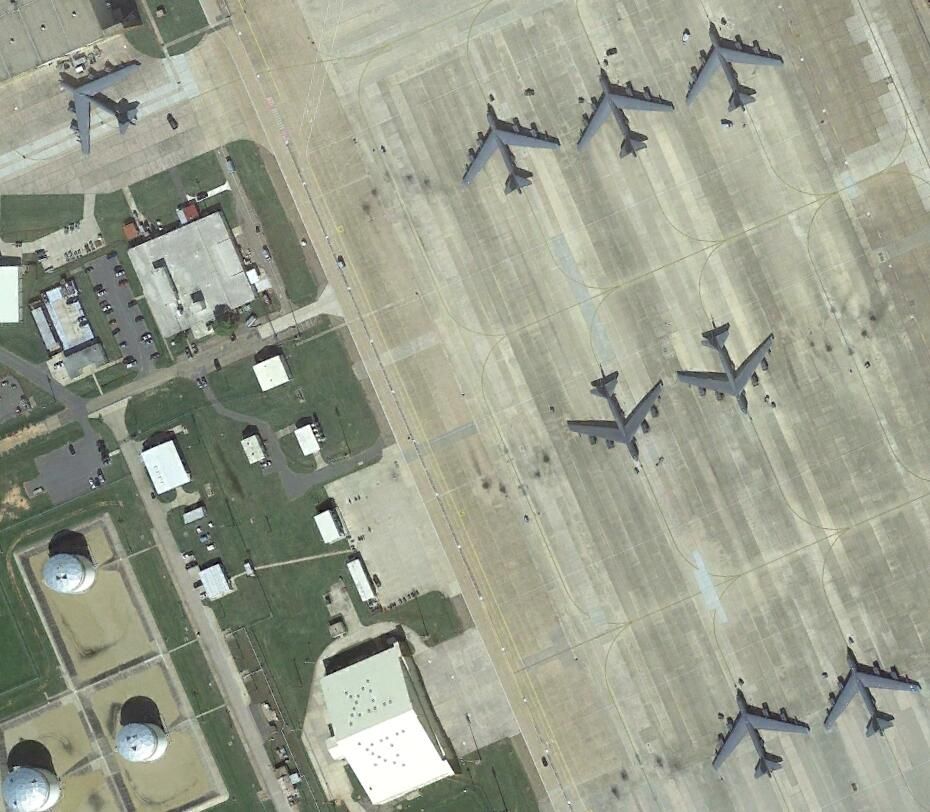A8: (455, 102, 563, 200), (708, 688, 812, 786), (566, 366, 667, 466), (573, 66, 676, 164), (683, 23, 788, 119), (820, 646, 925, 742), (678, 320, 778, 418), (53, 59, 152, 156)
